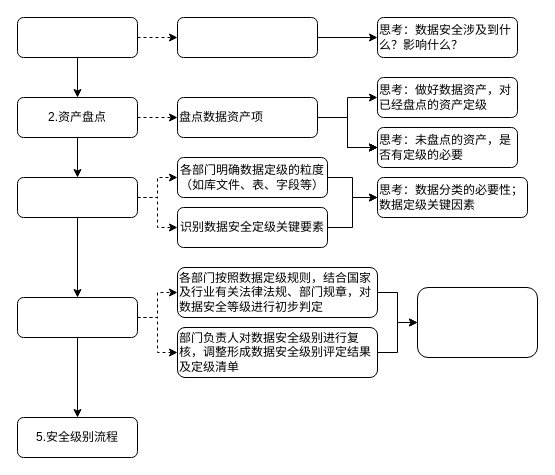
Some shapes in this 555 by 475 pixel diagram are drawn without their labels. Each missing label, with the box of its shape:
1.数据安全标准和规范: (16, 16, 138, 58)
3.资产定级准备: (16, 176, 138, 218)
4.安全级别判定: (16, 296, 138, 338)
思考：数据定级人为因素比较重；NLP算法只能辅助，主要还是需要人工定级: (416, 286, 538, 358)
解读行业标准和制度，明确行业数据安全要求: (176, 16, 318, 58)
